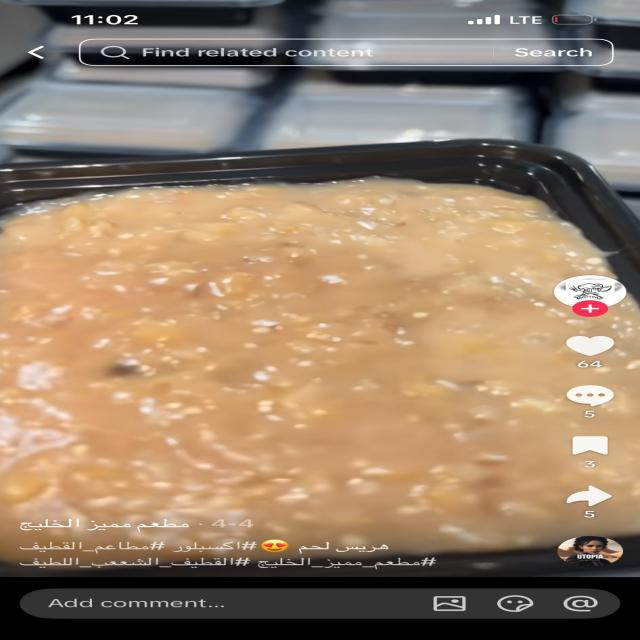Harees: (3, 143, 640, 548)
